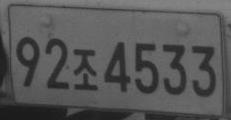2: (45, 37, 68, 89)
3: (191, 44, 216, 97), (162, 43, 186, 95)
4: (103, 41, 130, 92)
5: (134, 42, 159, 94)
9: (15, 36, 40, 88)
조: (73, 48, 98, 91)
